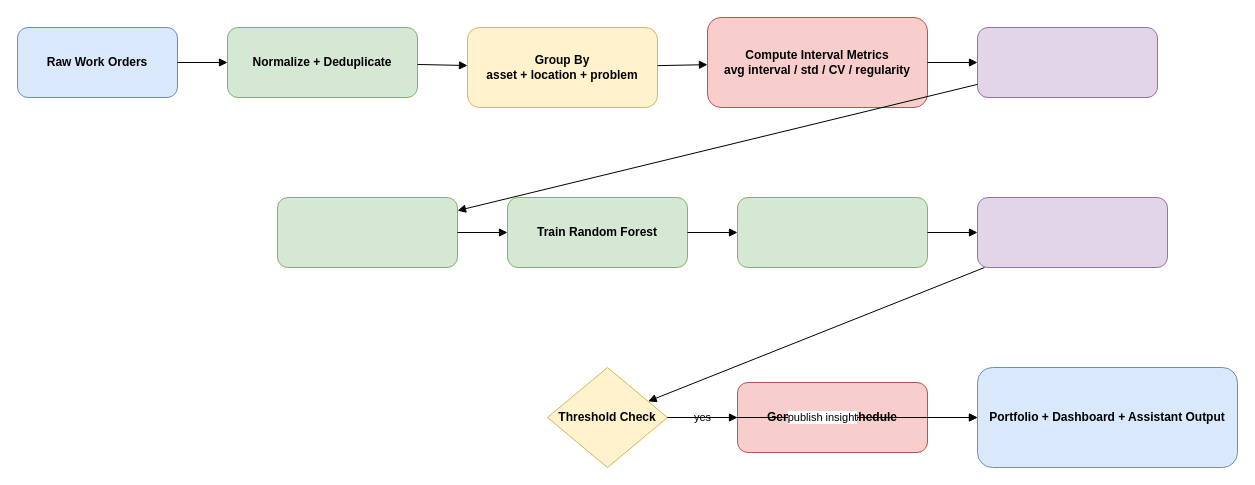
Image size: 1255x485. Some labels were removed from this diagram. Here are the shapes that lost their labels. From the top down, the box of each, then its label:
(976, 26, 1158, 98): Persist Pattern Records
(276, 196, 458, 268): Build Training Frame
(736, 196, 928, 268): Score 30 / 60 / 90 day risk
(976, 196, 1168, 268): Persist Prediction Records
